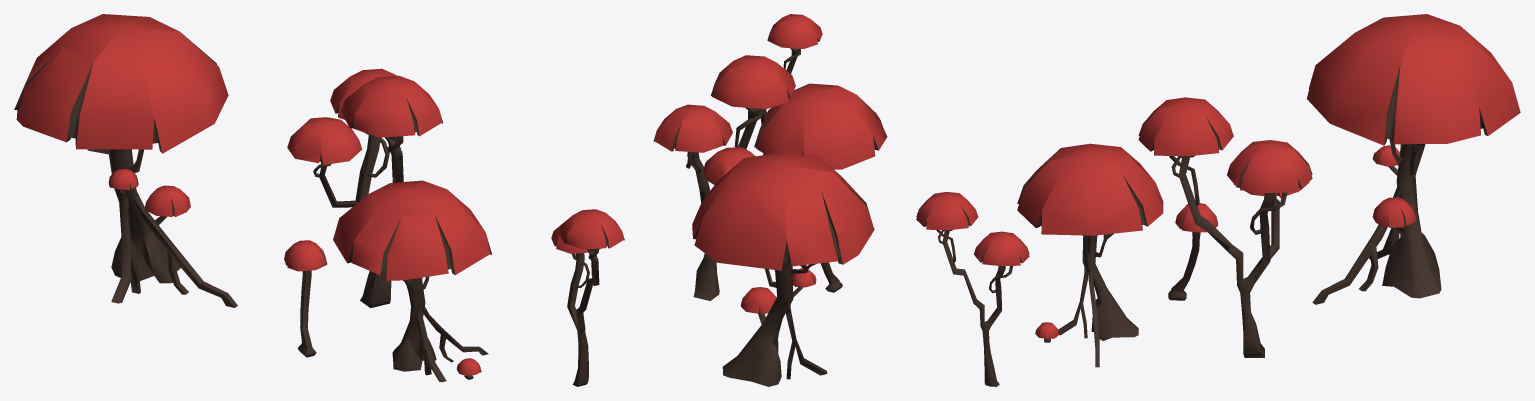
The model's file is mushroom_trees2.fbx.
The picture shows the model from 3 angles, left to right: view 1: azimuth 30°, elevation 25°; view 2: azimuth 150°, elevation 25°; view 3: azimuth 270°, elevation 25°; orthographic projection. The views are drawn at different scales.
Parts seen in each view (by area): view 1: giantmushroom_02:Layer7, giantmushroom_02:mega, giantmushroom_02:tritop, giantmushroom_02:long_spindly, giantmushroom_02:Layer6; view 2: giantmushroom_02:Layer7, giantmushroom_02:tritop, giantmushroom_02:mega, giantmushroom_02:long_spindly, giantmushroom_02:Layer6; view 3: giantmushroom_02:Layer7, giantmushroom_02:mega, giantmushroom_02:tritop, giantmushroom_02:long_spindly, giantmushroom_02:Layer6.
Part boxes in pixels (x1,y1,x2,y2): giantmushroom_02:Layer7: (14, 14, 237, 307); giantmushroom_02:mega: (333, 180, 491, 382); giantmushroom_02:tritop: (287, 68, 442, 308); giantmushroom_02:long_spindly: (551, 209, 624, 386); giantmushroom_02:Layer6: (284, 240, 327, 357); giantmushroom_02:Layer7: (692, 152, 874, 386); giantmushroom_02:tritop: (653, 55, 795, 300); giantmushroom_02:mega: (754, 83, 887, 169); giantmushroom_02:long_spindly: (760, 14, 822, 155); giantmushroom_02:Layer6: (820, 262, 842, 292); giantmushroom_02:Layer7: (1307, 14, 1520, 304); giantmushroom_02:mega: (1017, 143, 1163, 367); giantmushroom_02:tritop: (1138, 97, 1312, 357); giantmushroom_02:long_spindly: (916, 192, 1029, 386); giantmushroom_02:Layer6: (1168, 203, 1218, 300).
Size of the model in its own units: 577 by 391 by 865.
